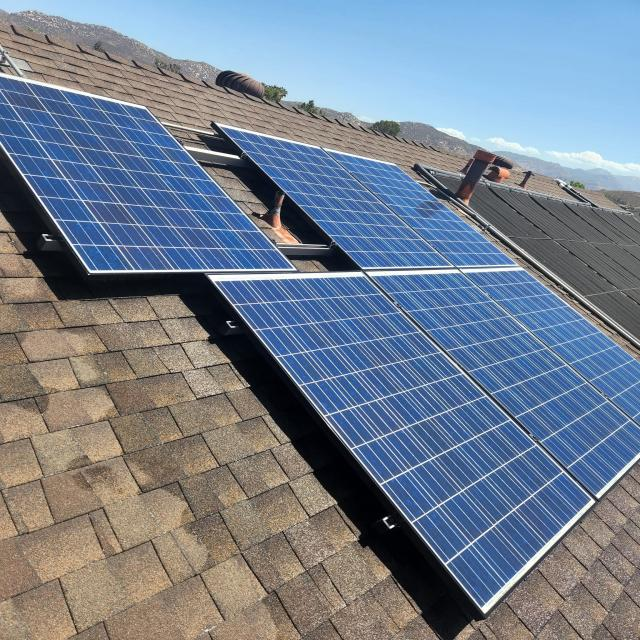clean-solar-panel: (1, 76, 638, 612)
